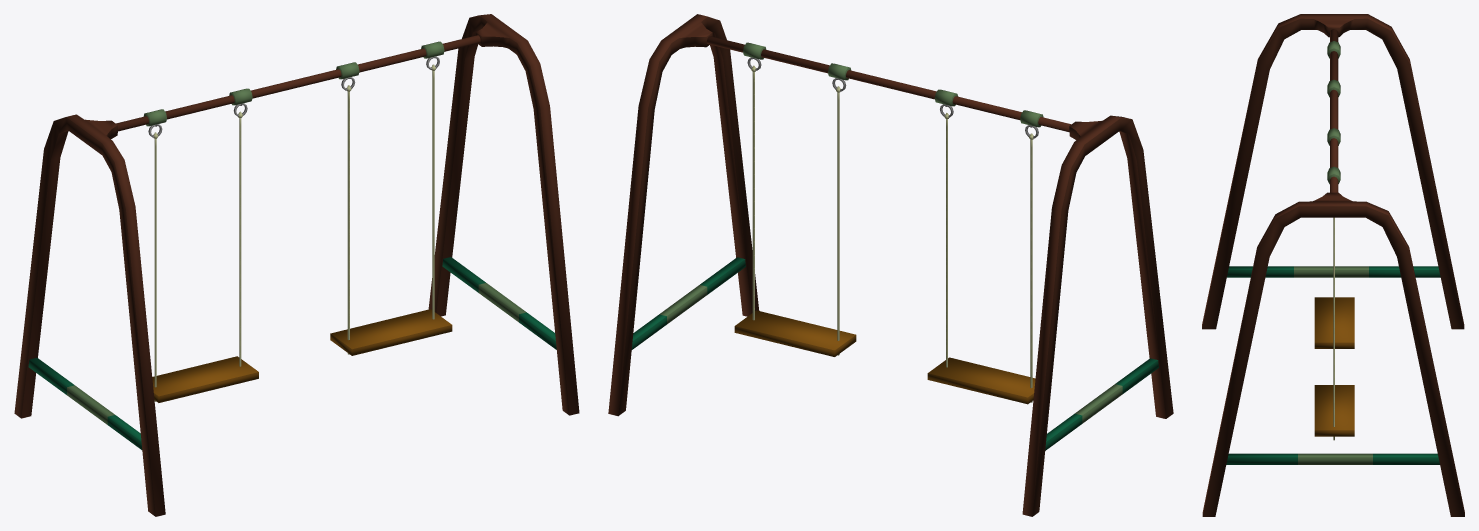
The model's file is ParkSwing_Double.fbx.
3 views of the same model, side by side, from view 1: azimuth 30°, elevation 25°; view 2: azimuth 150°, elevation 25°; view 3: azimuth 270°, elevation 25° (orthographic). The views are drawn at different scales.
Parts seen in each view (by area): view 1: ParkSwing_Double; view 2: ParkSwing_Double; view 3: ParkSwing_Double.
Boxes of the visible parts, bbox=[...] form: ParkSwing_Double: bbox=[14, 14, 579, 516]; ParkSwing_Double: bbox=[608, 14, 1173, 516]; ParkSwing_Double: bbox=[1202, 14, 1464, 516].
Size of the model in its own units: 348 by 263 by 201.
